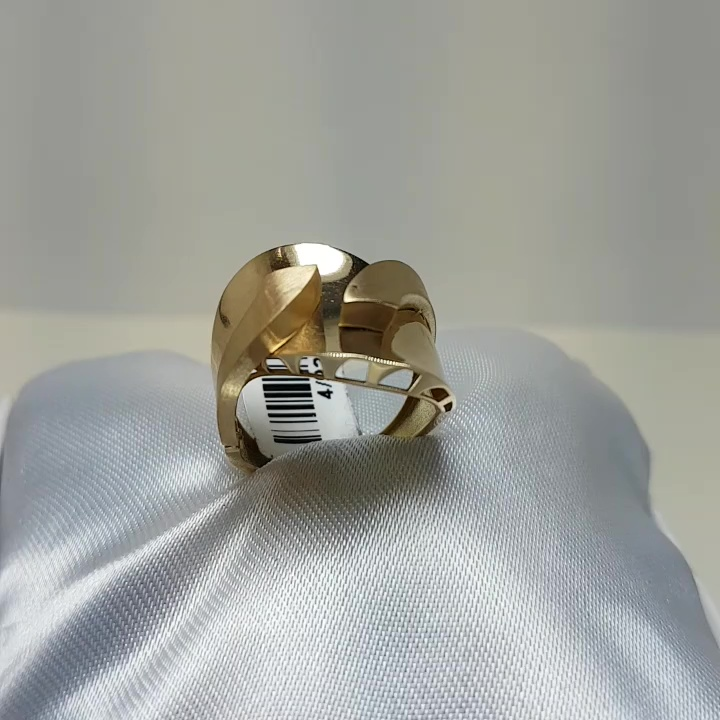Ring 4: (173, 208, 467, 485)
